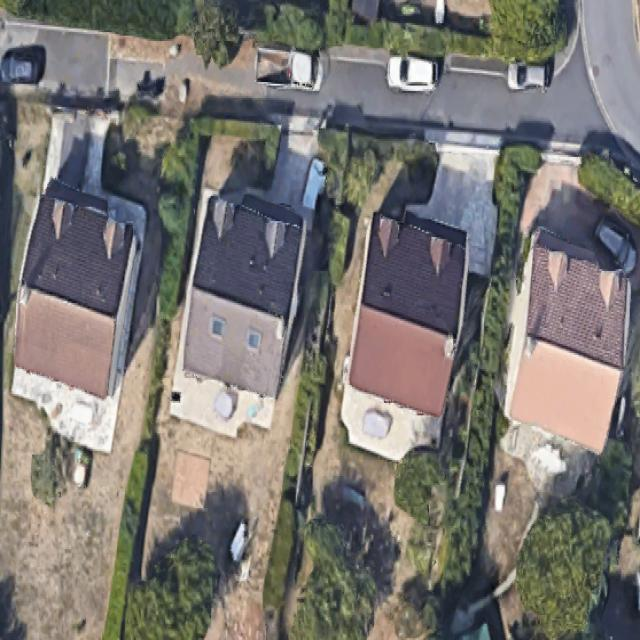maison: (482, 242, 640, 454), (169, 187, 320, 398), (335, 207, 482, 415), (5, 178, 143, 399)
